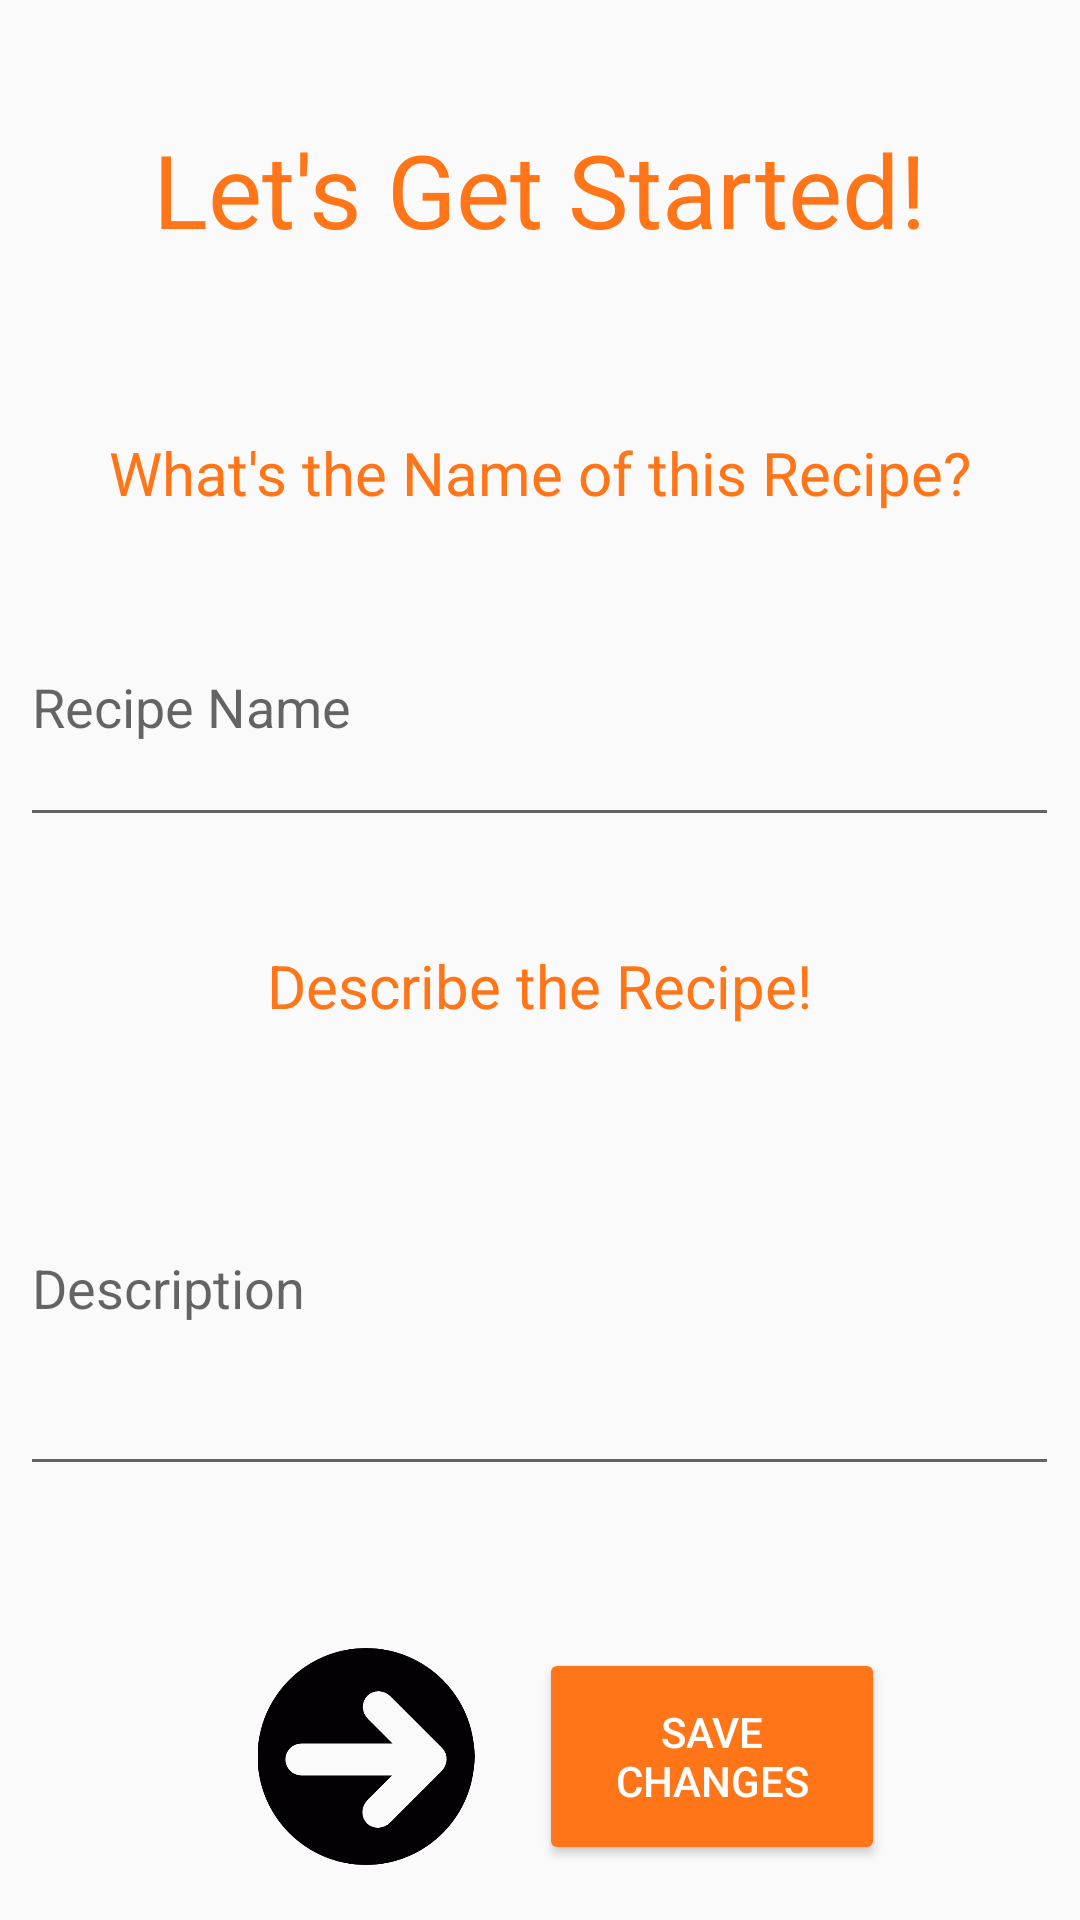

Locate icon controls on the screen. Image size 1080px×1920px, boxes as [left=x1, top=y1, right=x2, bottom=y2].
right arrow: [left=258, top=1648, right=475, bottom=1865]
